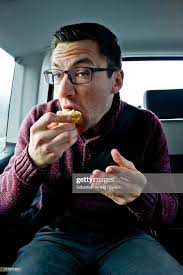eating: (25, 25, 142, 175)
